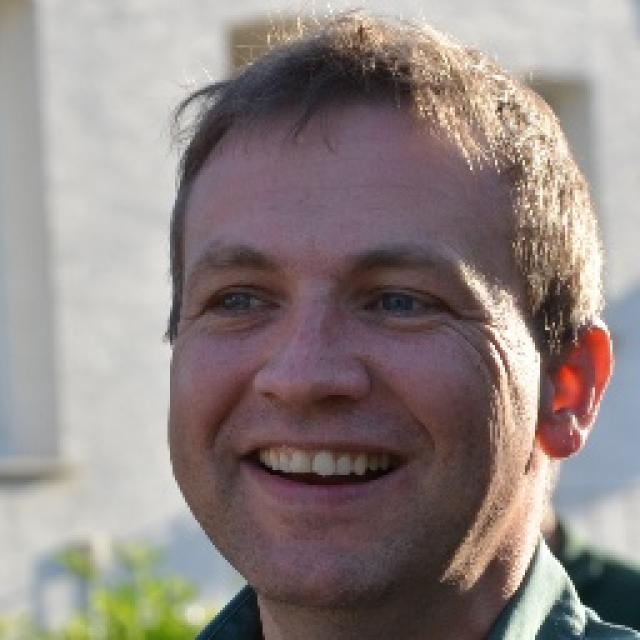earlobe: (534, 409, 582, 461)
eye: (357, 286, 450, 326), (201, 285, 285, 316)
nose: (254, 384, 370, 440)
wholeear: (534, 319, 612, 462)
